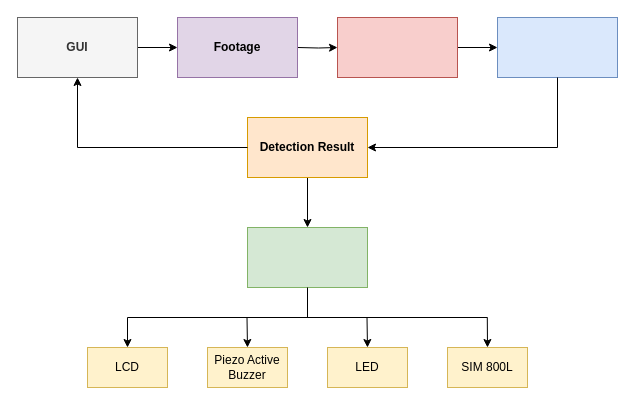
The diagram is 635 pixels wide and 405 high, and some of its shapes have lost their labels. The box of each missing label's shape, as (x1, y1, x2, y2) in pixels:
Arduino Uno R3: (246, 226, 368, 288)
Footage Preprocessing: (336, 16, 458, 78)
InceptionV3-Based Accident Detection Model: (496, 16, 618, 78)
